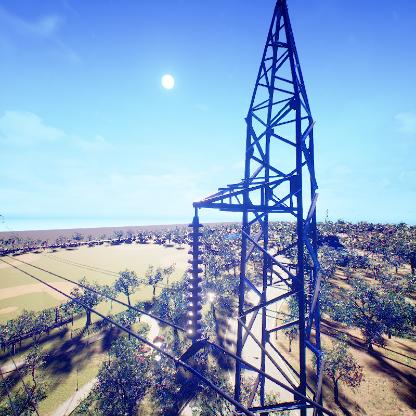insulator: (186, 221, 206, 342)
